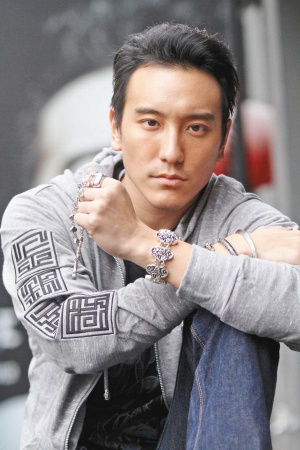male: (93, 14, 249, 216)
